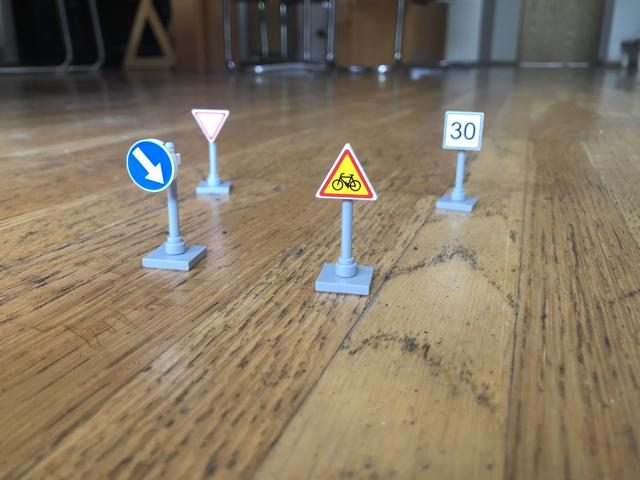radfahrer: (318, 143, 378, 203)
rechts halten: (127, 139, 179, 193)
tempolimit 30: (442, 109, 485, 154)
vorfahrt gewähren: (192, 107, 231, 143)
